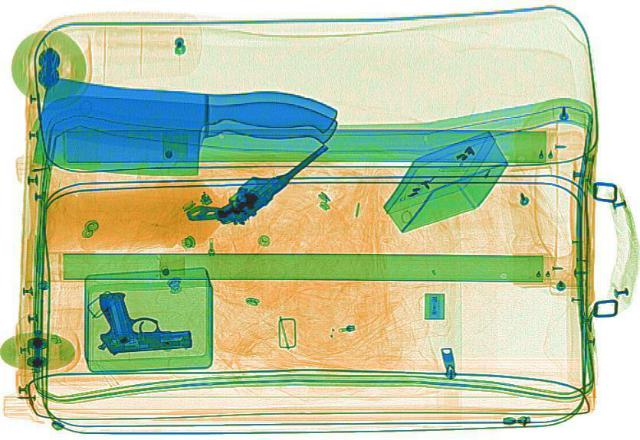Gun: (178, 135, 352, 237), (80, 280, 194, 355)
Knife: (20, 81, 336, 184), (38, 78, 338, 139)
